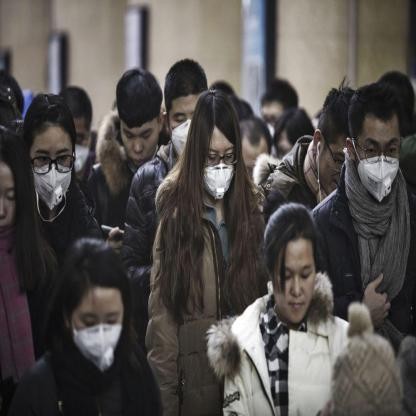with_mask: (60, 232, 132, 379), (344, 82, 406, 208), (22, 86, 80, 218), (192, 88, 243, 204), (162, 54, 210, 164)
without_mask: (262, 199, 321, 323), (310, 83, 356, 198), (116, 64, 164, 170), (1, 131, 33, 233)
